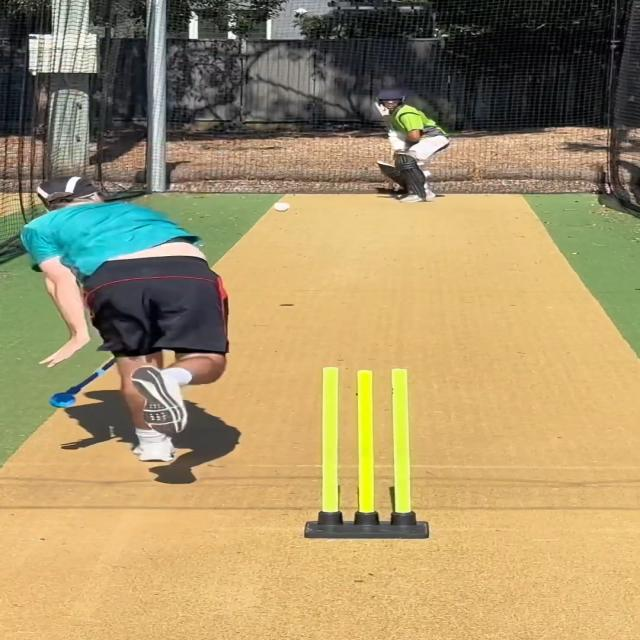ball: (270, 201, 294, 213)
stump: (304, 366, 431, 541)
